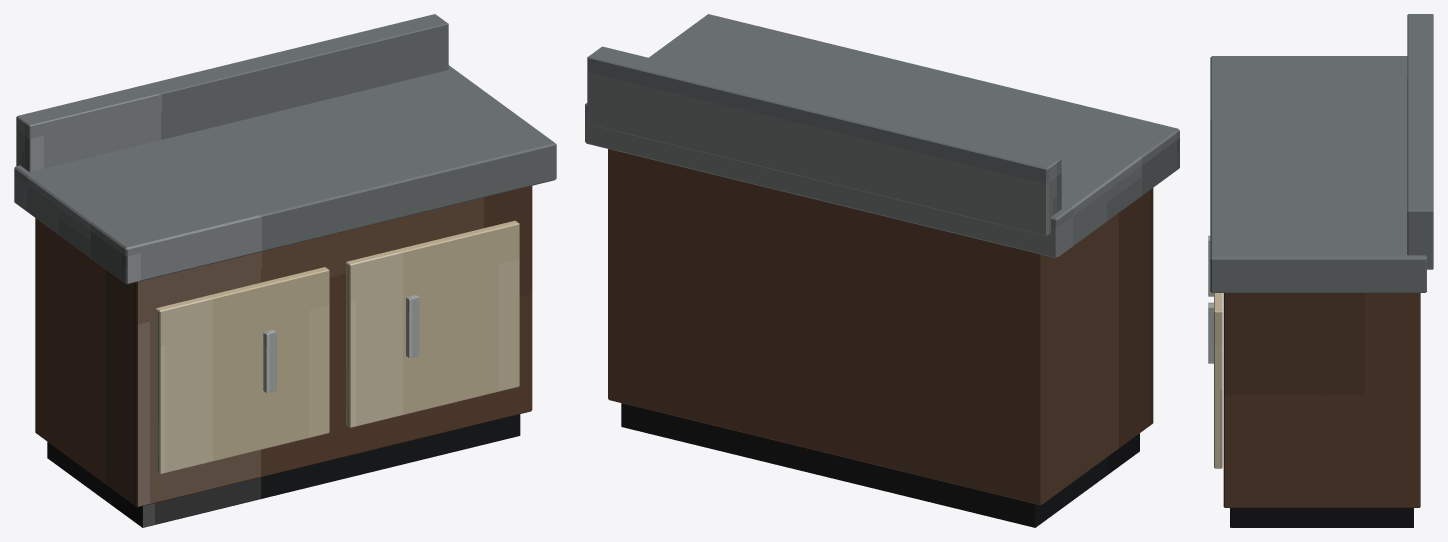
The model's file is normal_kitchen_counter.glb.
3 views of the same model, side by side, from view 1: azimuth 30°, elevation 25°; view 2: azimuth 150°, elevation 25°; view 3: azimuth 270°, elevation 25° (orthographic). The views are drawn at different scales.
Parts seen in each view (by area): view 1: Worktop, CounterBody, CabinetDoor_1, CabinetDoor_2, TopBacksplash, CounterPlinth, CabinetHandle_1, CabinetHandle_2; view 2: CounterBody, Worktop, TopBacksplash, CounterPlinth; view 3: Worktop, CounterBody, TopBacksplash, CounterPlinth, CabinetDoor_2, CabinetHandle_2.
Part boxes in pixels (bbox=[...]): Worktop: bbox=[14, 65, 556, 284]; CounterBody: bbox=[35, 186, 532, 507]; CabinetDoor_1: bbox=[155, 267, 329, 474]; CabinetDoor_2: bbox=[346, 220, 519, 427]; TopBacksplash: bbox=[16, 14, 448, 171]; CounterPlinth: bbox=[47, 414, 520, 527]; CabinetHandle_1: bbox=[263, 330, 276, 392]; CabinetHandle_2: bbox=[406, 295, 419, 357]; CounterBody: bbox=[608, 149, 1153, 505]; Worktop: bbox=[585, 14, 1179, 258]; TopBacksplash: bbox=[587, 46, 1061, 236]; CounterPlinth: bbox=[621, 403, 1139, 527]; Worktop: bbox=[1210, 56, 1426, 292]; CounterBody: bbox=[1223, 293, 1420, 507]; TopBacksplash: bbox=[1407, 14, 1433, 269]; CounterPlinth: bbox=[1230, 508, 1413, 527]; CabinetDoor_2: bbox=[1214, 293, 1222, 468]; CabinetHandle_2: bbox=[1208, 302, 1213, 363].
Size of the model in its own units: 1.46 by 1.1 by 0.6865.
Materials: 1 (1 with a texture image).
